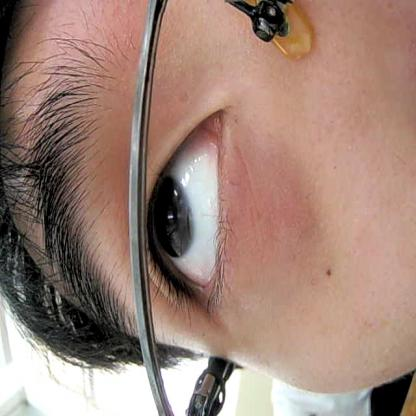Up: (147, 95, 246, 332)
